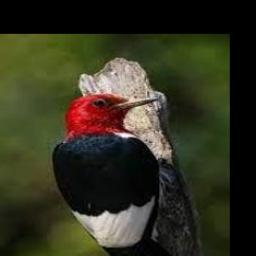Woodpecker: (48, 94, 176, 256)
